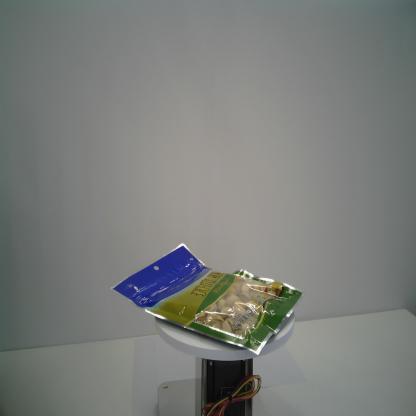Dried Fruit: (110, 241, 308, 357)
